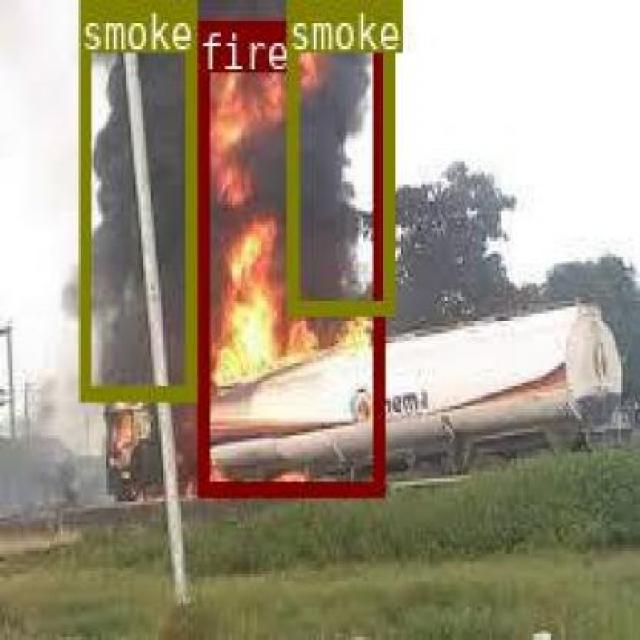Fire: (196, 19, 382, 492)
Smoke: (78, 0, 192, 398), (286, 0, 392, 314)
